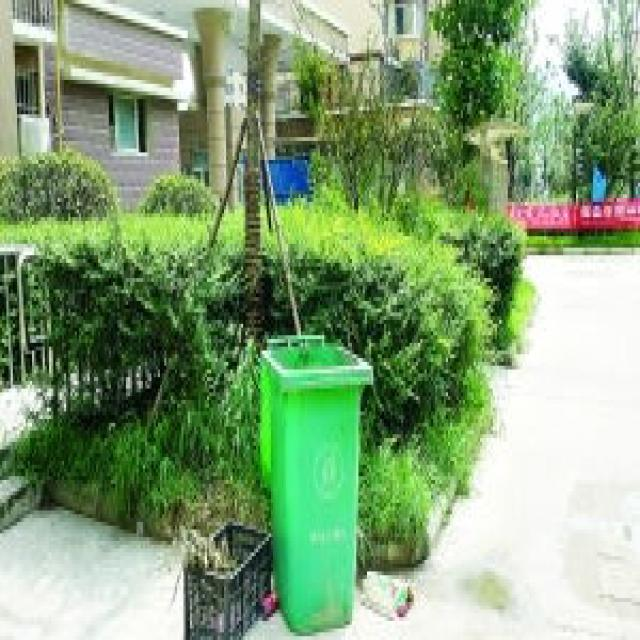garbage: (179, 518, 275, 636)
garbage_bin: (256, 328, 371, 636)
